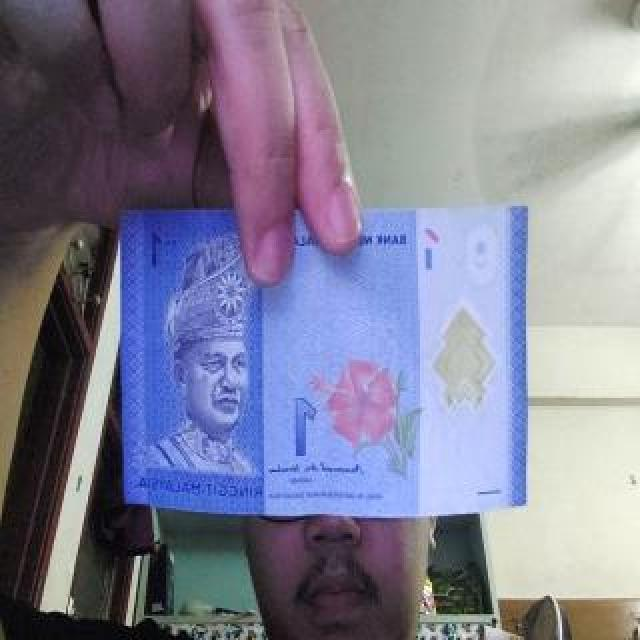1 Ringgit: (118, 206, 528, 520)
